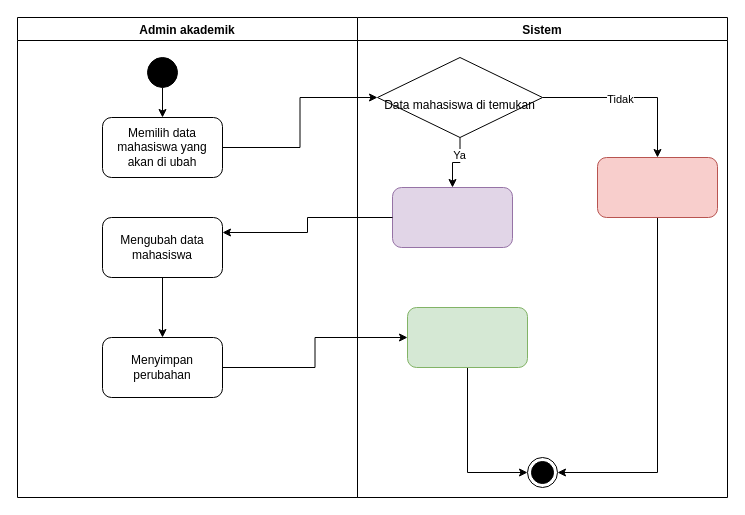
Some shapes in this 745 by 515 pixel diagram are drawn without their labels. Here are the shapes that lost their labels. From the top down, the centre of each, then its label:
At [657,187]: "Menampilkan pesan data mahasiswa tidak ditemukan".
At [452,217]: "Menampilkan data mahasiswa saat ini".
At [467,337]: "Sistem menyimpan data yang di ubah dan menampilkan konfirmasi".
